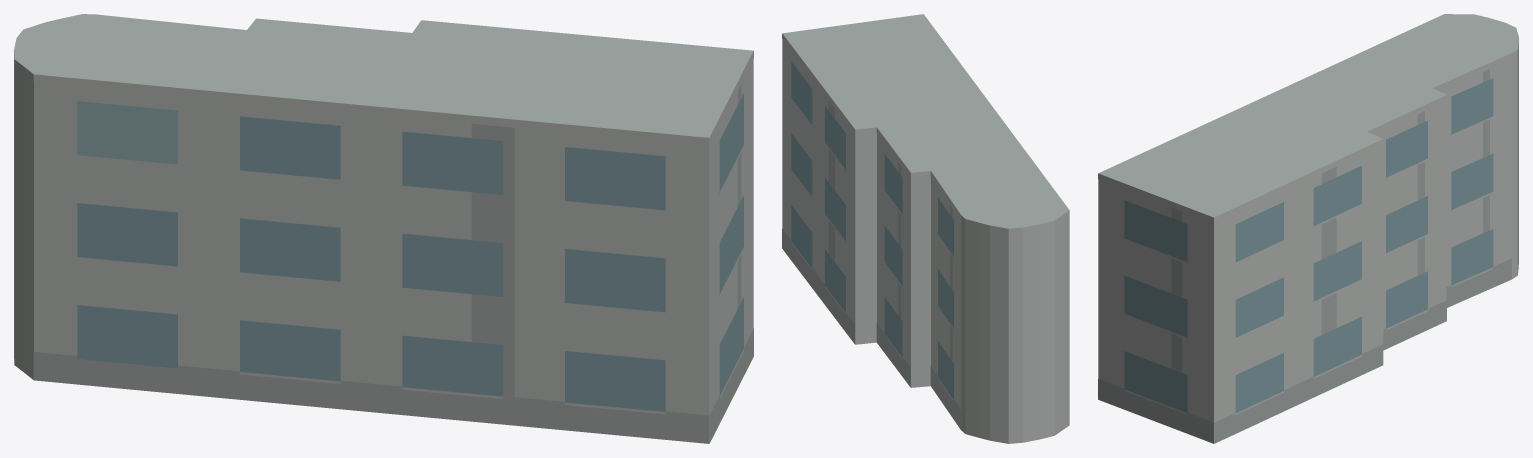
File: survey-upis-32884488.glb
The picture shows the model from 3 angles, left to right: view 1: azimuth 30°, elevation 25°; view 2: azimuth 150°, elevation 25°; view 3: azimuth 270°, elevation 25°; orthographic projection. The views are drawn at different scales.
Visible parts, largest first — view 1: survey-upis-32884488.tmp; view 2: survey-upis-32884488.tmp; view 3: survey-upis-32884488.tmp.
Boxes of the visible parts, x1,y1,x2,y2 form: survey-upis-32884488.tmp: (14,14,753,443); survey-upis-32884488.tmp: (782,14,1069,443); survey-upis-32884488.tmp: (1098,14,1518,443).
Bounding box in the file's own units: 17.67 × 9.15 × 15.42.
